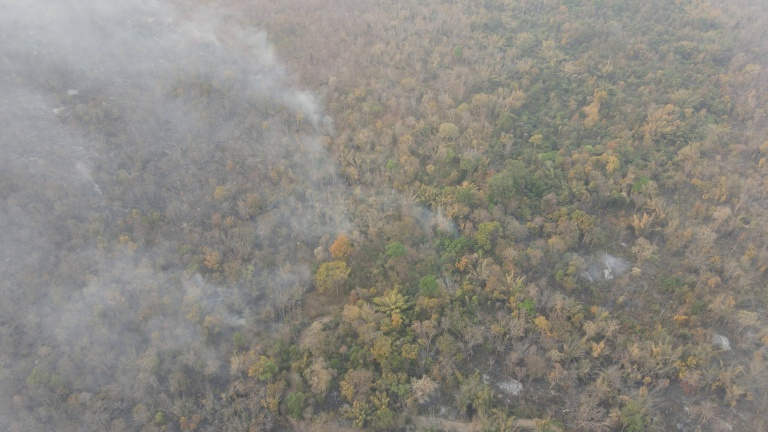smoke: (1, 1, 361, 427), (384, 191, 470, 244), (590, 242, 640, 284)
